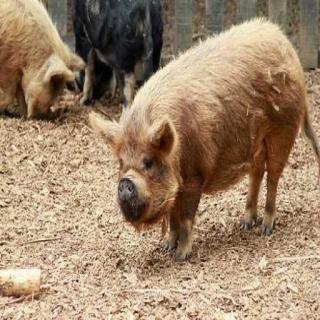Pig: (105, 33, 320, 260), (0, 0, 91, 134), (44, 0, 163, 87)
